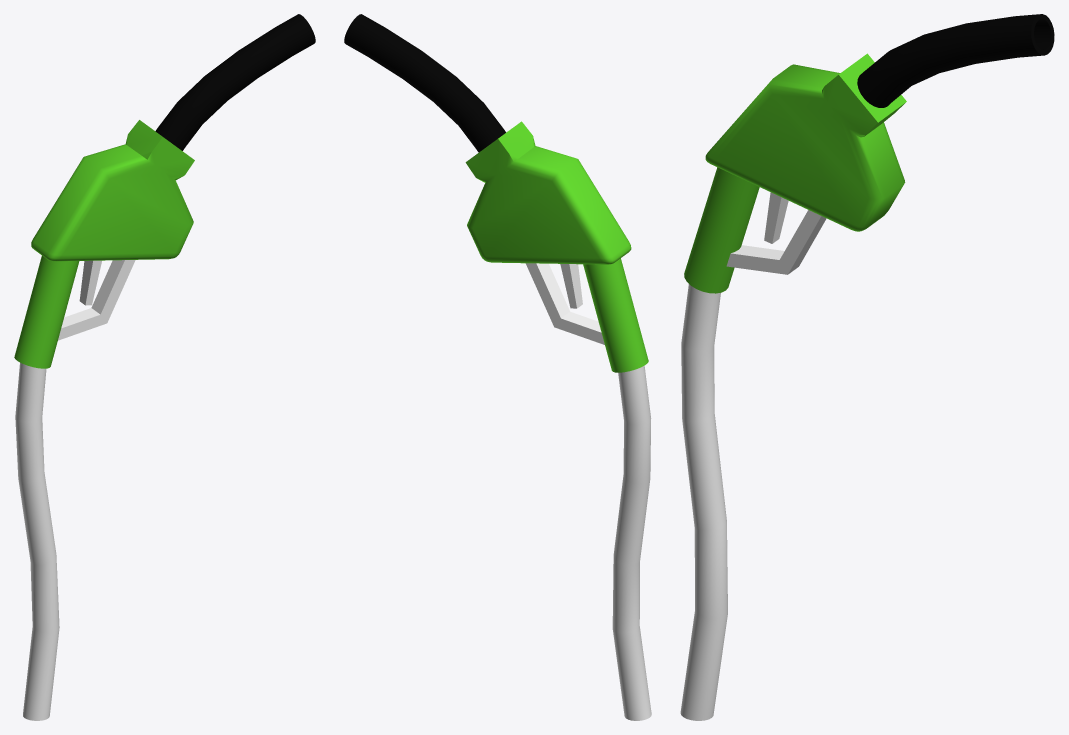
Rendered from Manguera.fbx.
The picture shows the model from 3 angles, left to right: view 1: azimuth 30°, elevation 25°; view 2: azimuth 150°, elevation 25°; view 3: azimuth 330°, elevation 25°; orthographic projection. The views are drawn at different scales.
Visible parts, largest first — view 1: Box001; view 2: Box001; view 3: Box001.
Boxes of the visible parts, x1,y1,x2,y2 form: Box001: (14,14,315,720); Box001: (344,14,651,720); Box001: (680,14,1054,720).
Bounding box in the file's own units: 16.44 × 33.59 × 2.38.
